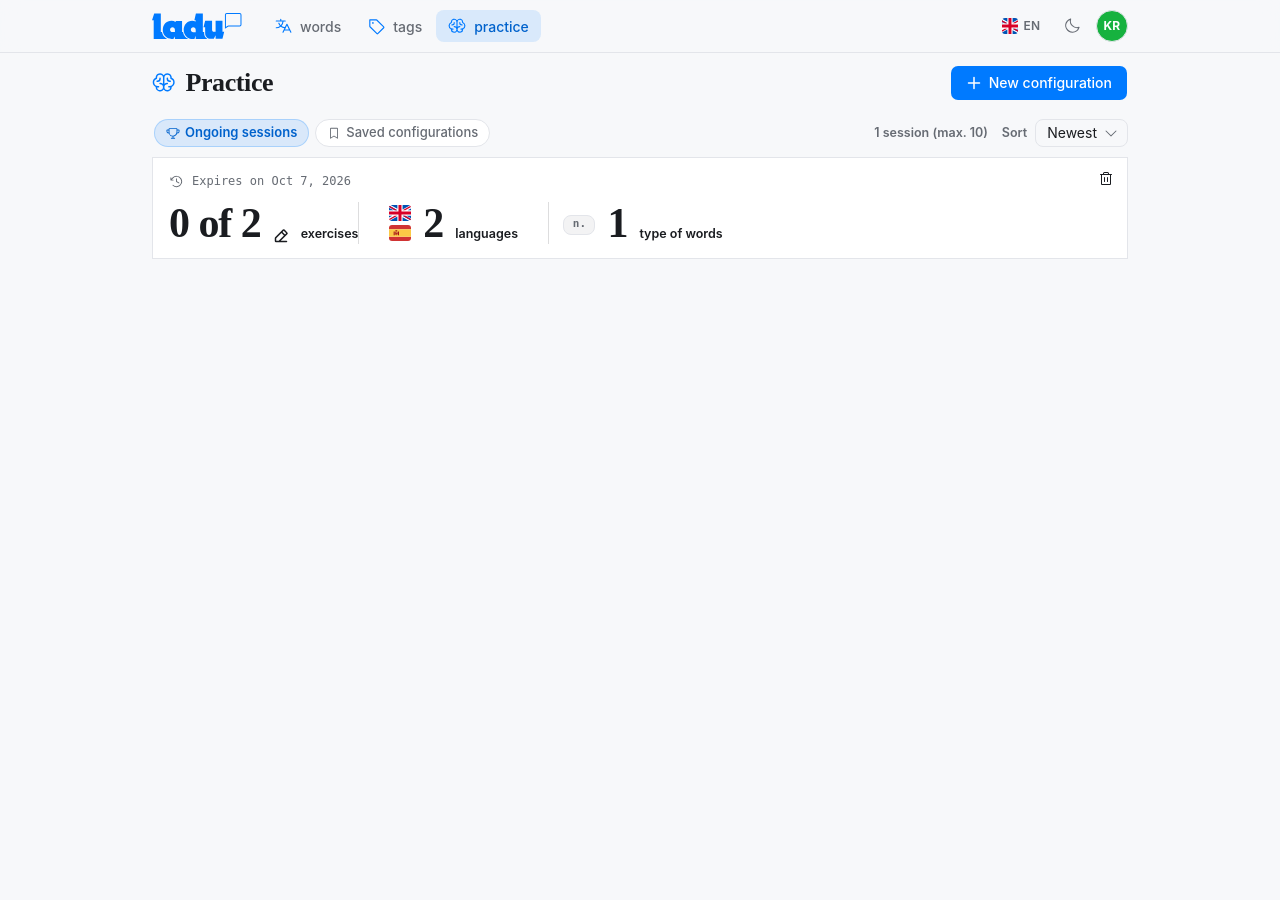
Test: PracticePage — saved configurations › says so when there are none
What coordinates should you click on to do the following:
click the button "Saved configurations"
I would click on:
 (403, 133)
Its box is [315,119,490,147].
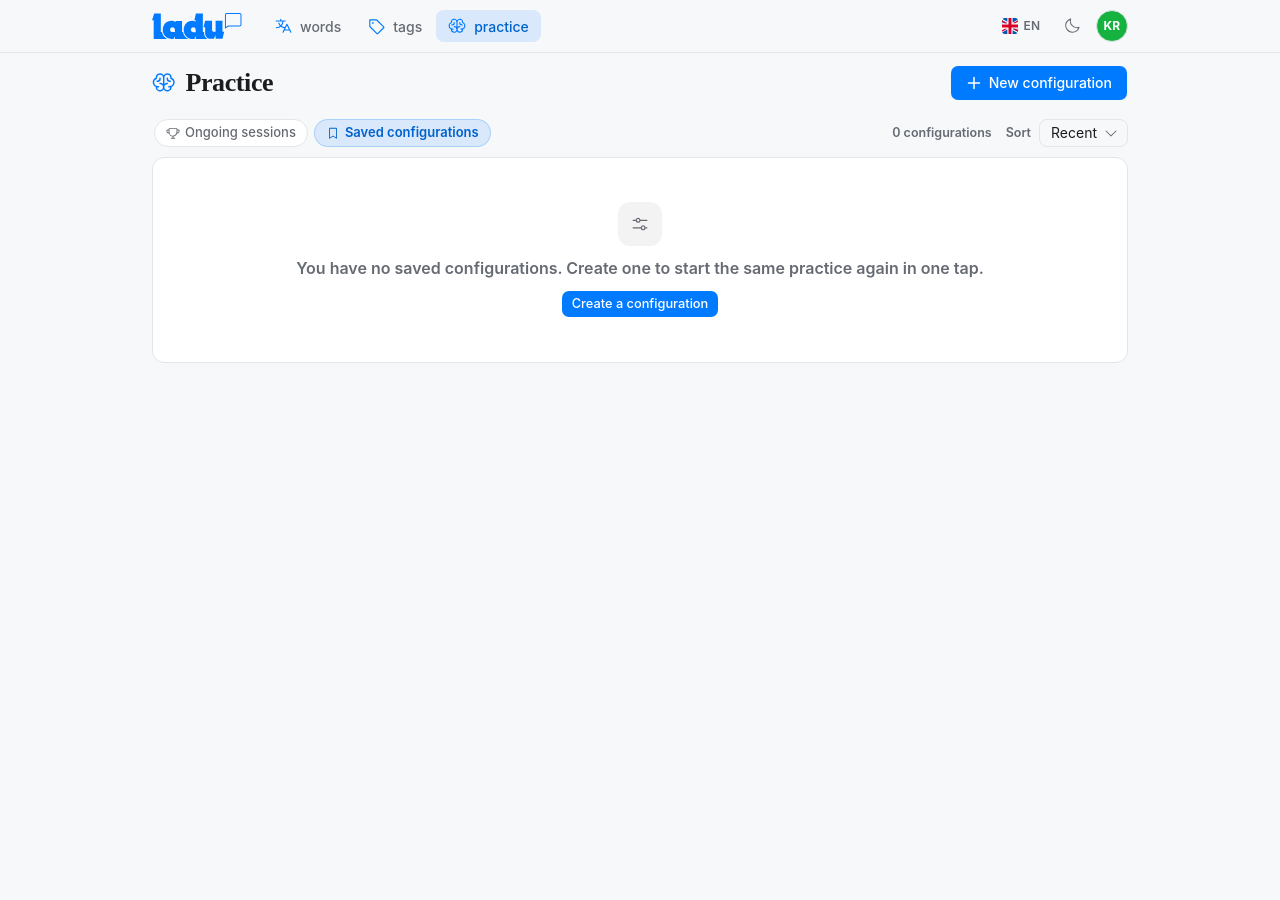
What coordinates should you click on to do the following:
click the button "Saved configurations"
I would click on:
 (402, 133)
Its box is [314,119,491,147].
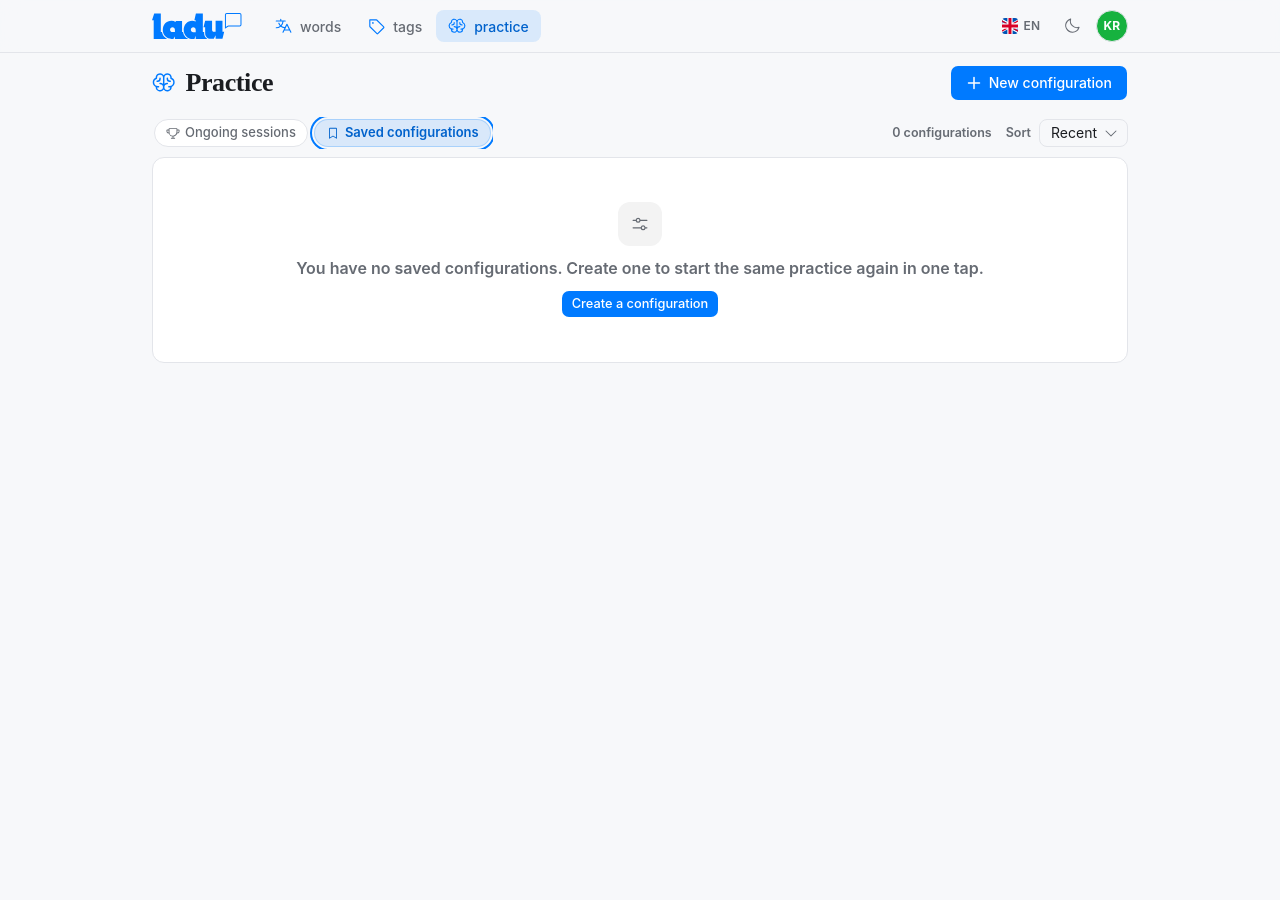
Check: the text "You have no saved configurations" is shown, box [296,258,984,278]
What coordinates should you click on to do the following:
click the button "Create a configuration"
I would click on:
 (640, 304)
Its box is [561,290,719,318].
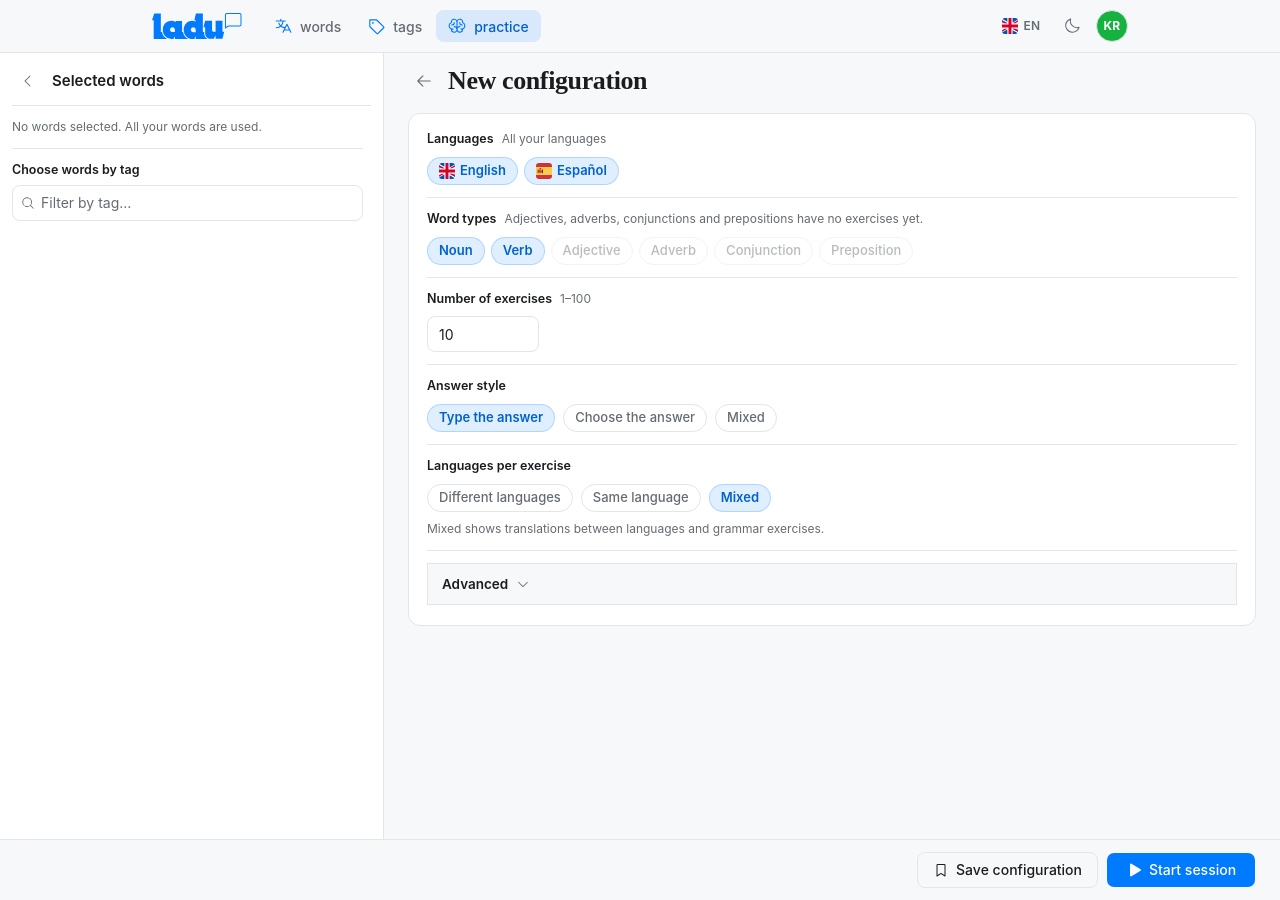
Check: the heading "New configuration" is shown, box [448,66,647,96]
